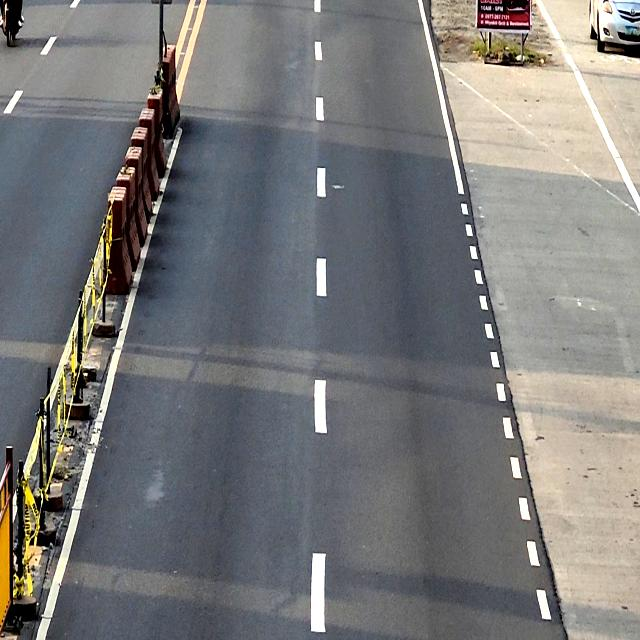Car: (589, 0, 640, 53)
License-Plate: (624, 26, 640, 36)
